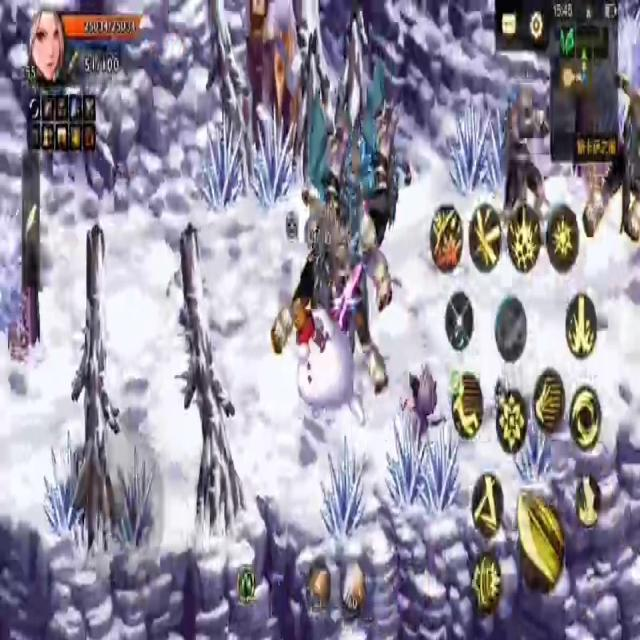player: (292, 290, 365, 436)
